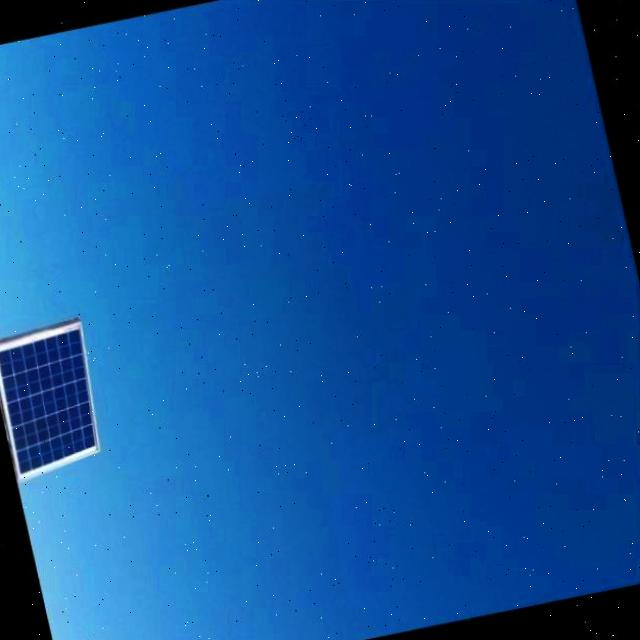Normal Solar Panel: (0, 324, 114, 483)
